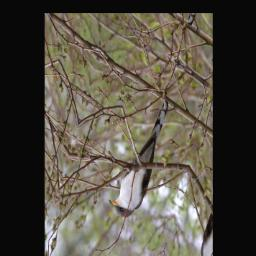Cuckoo: (106, 85, 173, 230)
